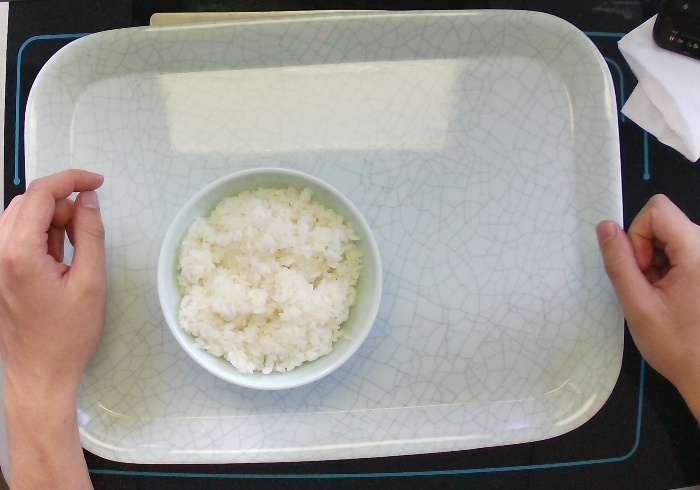JYsf-Fan_Wan: (154, 164, 387, 394)
